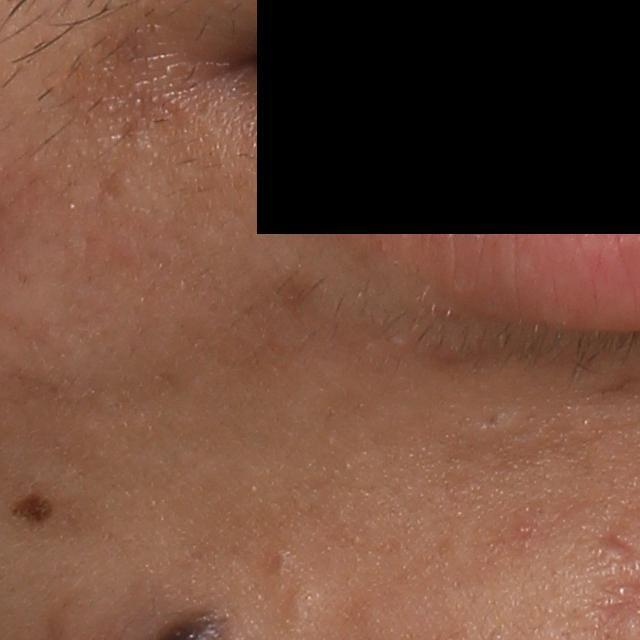atrophic_scar: (597, 531, 638, 553)
nevus: (1, 489, 61, 533)
